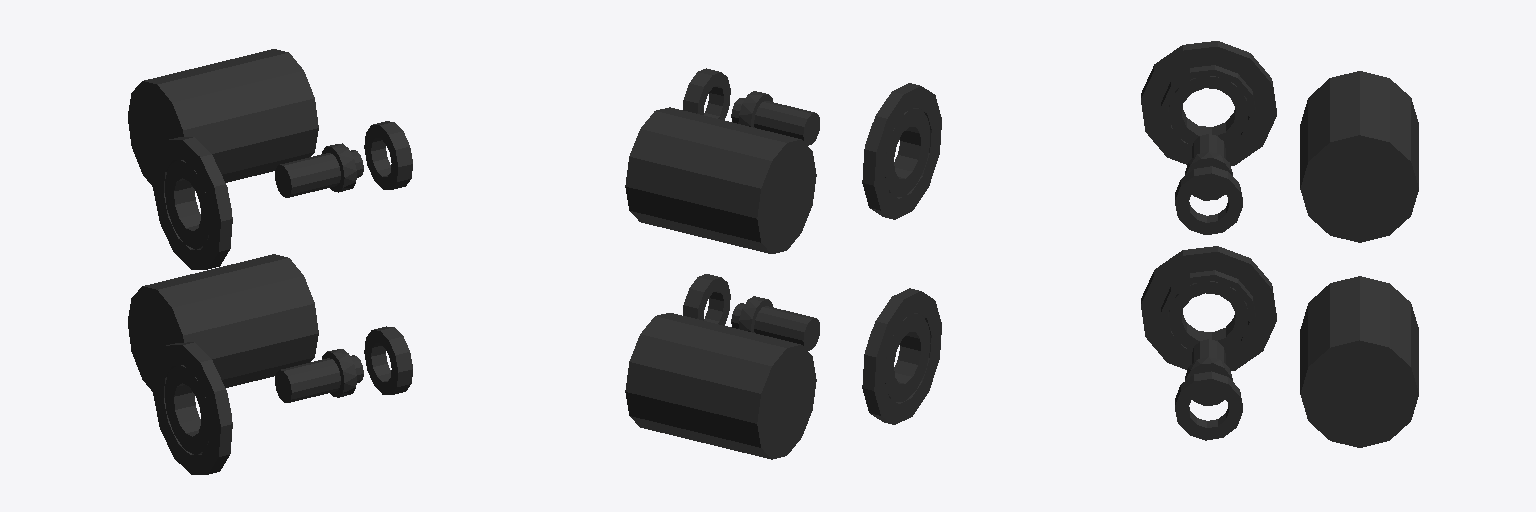
Rendered from Knee_1__1__1_mesh_2.obj.
3 renders of one model, left to right at view 1: azimuth 30°, elevation 25°; view 2: azimuth 150°, elevation 25°; view 3: azimuth 270°, elevation 25°, orthographic.
Bounding box in the file's own units: 0.0352 × 0.0528 × 0.0406.